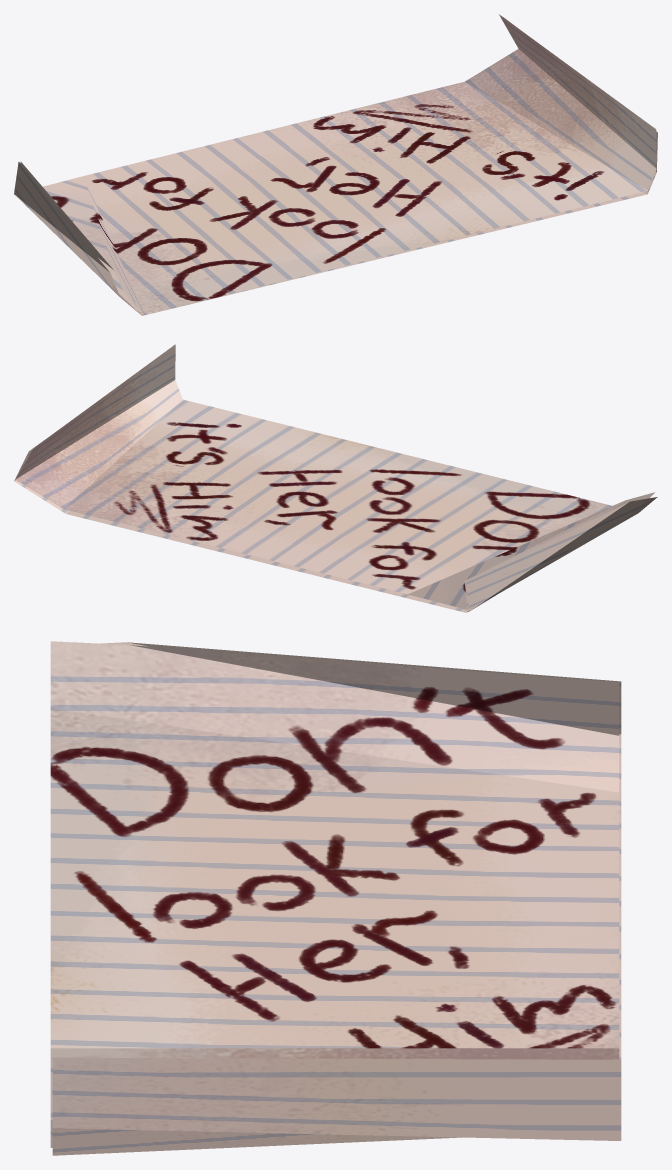
File: Note02_Don't_look_for_her_it's_him.fbx
3 views of the same model, one above another, from view 1: azimuth 30°, elevation 25°; view 2: azimuth 150°, elevation 25°; view 3: azimuth 270°, elevation 25° (orthographic). The views are drawn at different scales.
Parts seen in each view (by area): view 1: Note02; view 2: Note02; view 3: Note02.
Boxes of the visible parts, left/top/right/bottom form: Note02: left=14, top=14, right=657, bottom=315; Note02: left=14, top=344, right=657, bottom=612; Note02: left=50, top=641, right=621, bottom=1155.
Bounding box in the file's own units: 0.4789 × 0.0534 × 0.236.
1 material, 1 textured.
